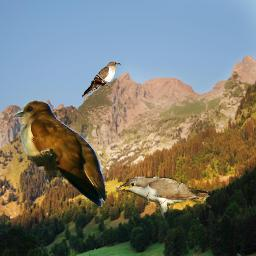Cuckoo: (13, 100, 105, 209), (116, 176, 211, 221), (82, 61, 121, 99)
